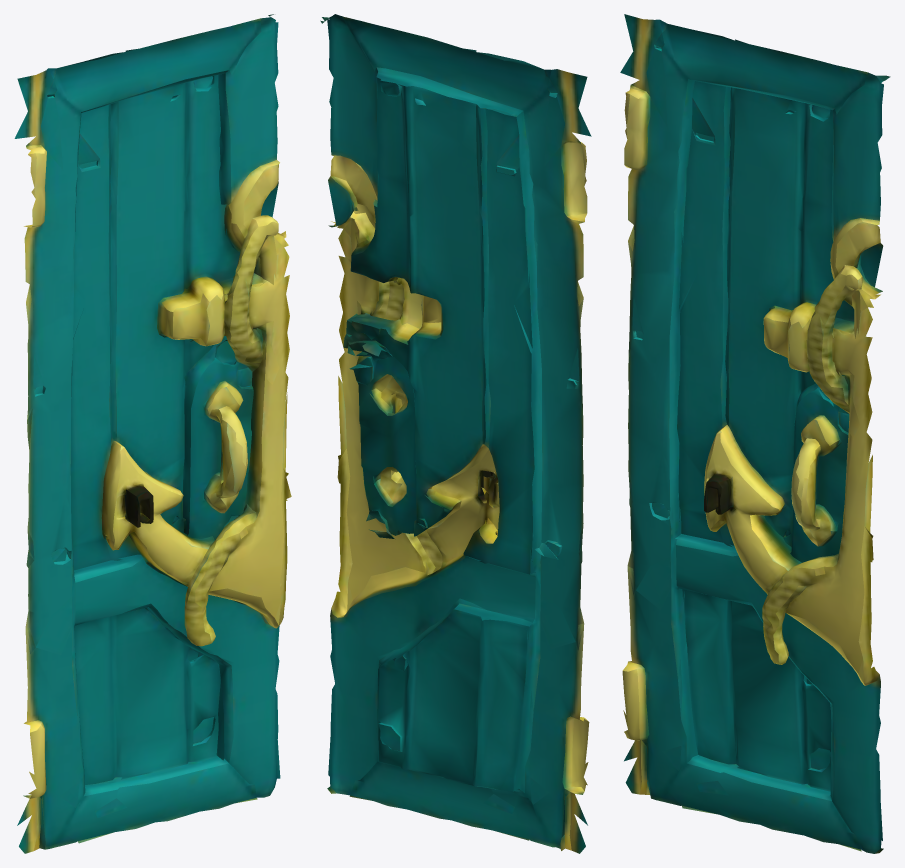
Rendered from door_left.glb.
3 renders of one model, left to right at view 1: azimuth 30°, elevation 25°; view 2: azimuth 150°, elevation 25°; view 3: azimuth 330°, elevation 25°, orthographic.
Visible parts, largest first — view 1: source_surface_0; view 2: source_surface_0; view 3: source_surface_0.
Part boxes in pixels (box(x1,y1,x2,y2)): source_surface_0: box(14, 14, 291, 853); source_surface_0: box(320, 14, 591, 853); source_surface_0: box(620, 14, 890, 853).
Size of the model in its own units: 0.2257 by 0.6304 by 0.0546.
1 material, 1 textured.
